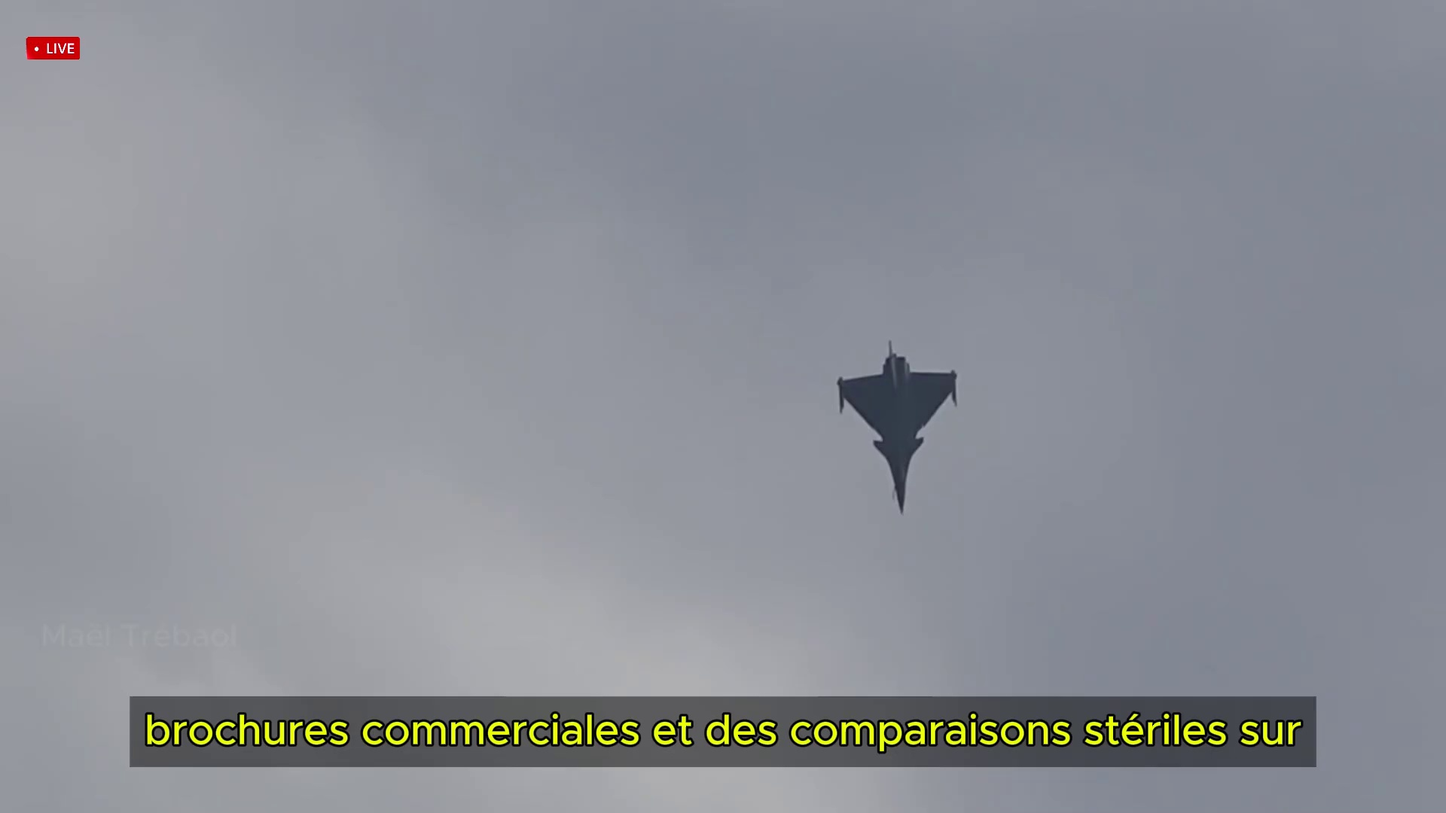Rafale: (835, 341, 960, 517)
